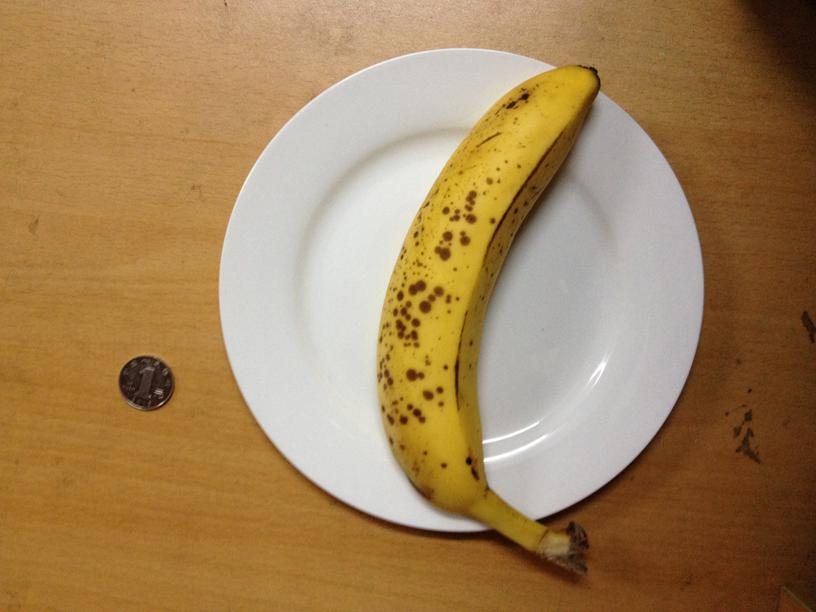banana: (382, 58, 598, 566)
coin: (117, 355, 174, 410)
